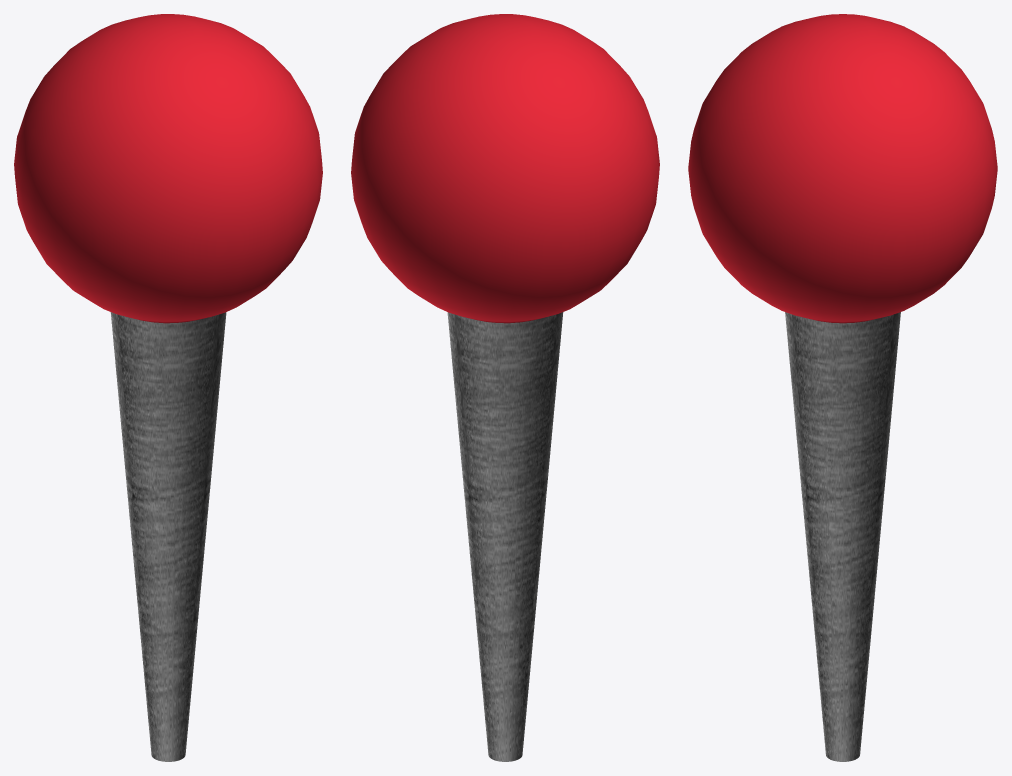
File: map_pin.glb
3 renders of one model, left to right at view 1: azimuth 30°, elevation 25°; view 2: azimuth 150°, elevation 25°; view 3: azimuth 270°, elevation 25°, orthographic.
Parts seen in each view (by area): view 1: Sphere_0; view 2: Sphere_0; view 3: Sphere_0.
Part boxes in pixels (left/top/right/bottom): Sphere_0: left=14, top=14, right=322, bottom=761; Sphere_0: left=351, top=14, right=659, bottom=761; Sphere_0: left=688, top=14, right=997, bottom=761.
Bounding box in the file's own units: 2 × 5.19 × 2.
Materials: 2 (1 with a texture image).
